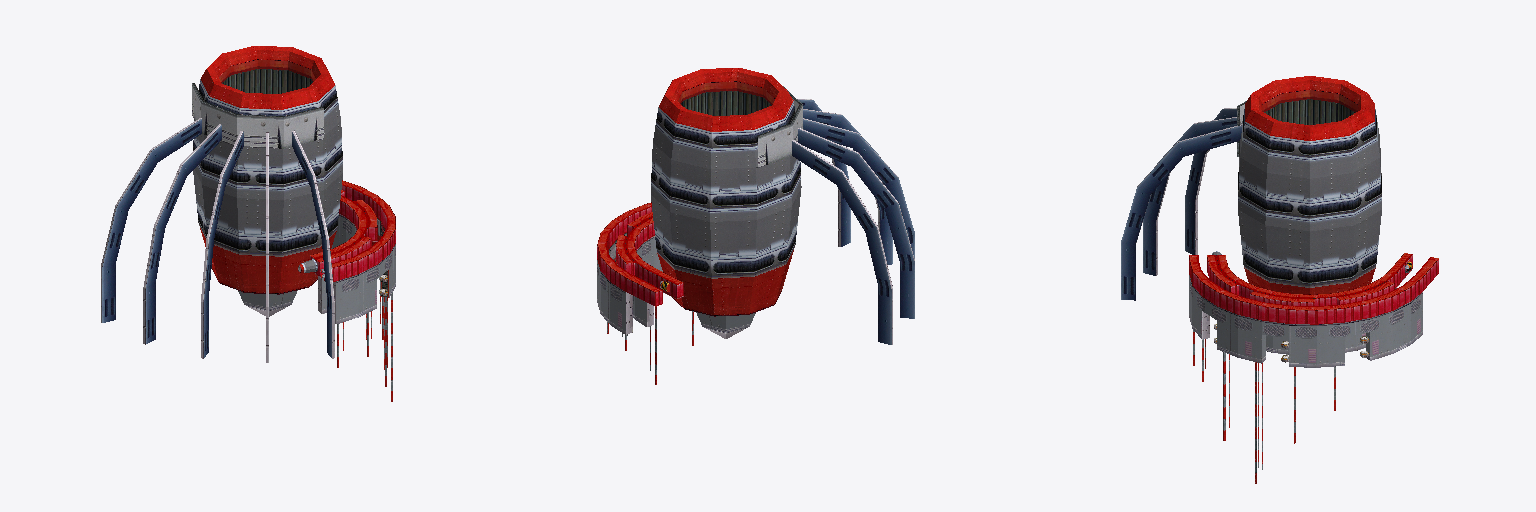
The picture shows the model from 3 angles: view 1: azimuth 30°, elevation 25°; view 2: azimuth 150°, elevation 25°; view 3: azimuth 270°, elevation 25°; orthographic projection.
Visible parts, largest first — view 1: s13_on_17_3, s13_on_17_2, s13_on_17_14, s13_on_17_5, s13_on_17_13, s13_on_17_8, s13_on_17_7, s13_on_17_6, s13_on_17_0; view 2: s13_on_17_3, s13_on_17_14, s13_on_17_2, s13_on_17_5, s13_on_17_8, s13_on_17_7, s13_on_17_6, s13_on_17_13; view 3: s13_on_17_3, s13_on_17_5, s13_on_17_14, s13_on_17_2, s13_on_17_7, s13_on_17_6, s13_on_17_8, s13_on_17_0.
Part boxes in pixels (left/top/right/bottom): s13_on_17_3: left=193, top=79, right=342, bottom=272; s13_on_17_2: left=199, top=46, right=336, bottom=294; s13_on_17_14: left=102, top=119, right=331, bottom=357; s13_on_17_5: left=101, top=118, right=395, bottom=362; s13_on_17_13: left=192, top=85, right=323, bottom=148; s13_on_17_8: left=219, top=60, right=388, bottom=297; s13_on_17_7: left=310, top=185, right=395, bottom=281; s13_on_17_6: left=310, top=180, right=395, bottom=267; s13_on_17_0: left=337, top=282, right=392, bottom=401; s13_on_17_3: left=651, top=101, right=801, bottom=276; s13_on_17_14: left=792, top=100, right=914, bottom=344; s13_on_17_2: left=657, top=68, right=794, bottom=316; s13_on_17_5: left=597, top=99, right=914, bottom=344; s13_on_17_8: left=678, top=82, right=774, bottom=115; s13_on_17_7: left=597, top=207, right=683, bottom=306; s13_on_17_6: left=597, top=202, right=683, bottom=292; s13_on_17_13: left=758, top=98, right=802, bottom=167; s13_on_17_3: left=1212, top=109, right=1381, bottom=285; s13_on_17_5: left=1136, top=108, right=1422, bottom=367; s13_on_17_14: left=1121, top=109, right=1242, bottom=300; s13_on_17_2: left=1244, top=76, right=1375, bottom=294; s13_on_17_7: left=1189, top=255, right=1438, bottom=324; s13_on_17_6: left=1189, top=253, right=1438, bottom=309; s13_on_17_8: left=1262, top=90, right=1357, bottom=124; s13_on_17_0: left=1193, top=330, right=1335, bottom=483.
Bounding box in the file's own units: 2079 × 2387 × 2058.
19 materials, 19 textured.